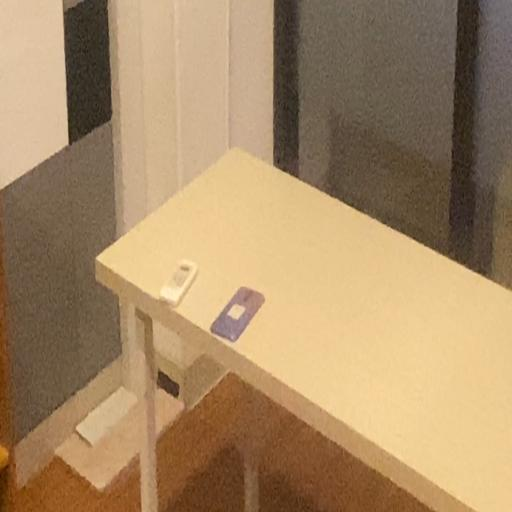hp: (209, 282, 266, 342)
remote AC: (157, 254, 200, 311)
